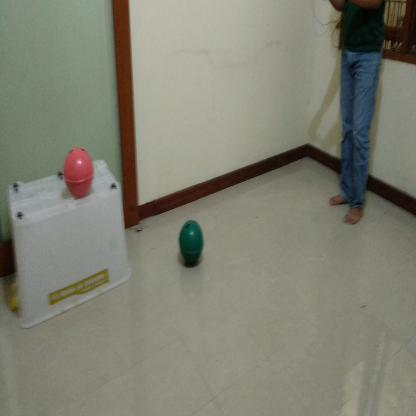green_buoy: (176, 217, 204, 267)
red_buoy: (62, 145, 95, 202)
